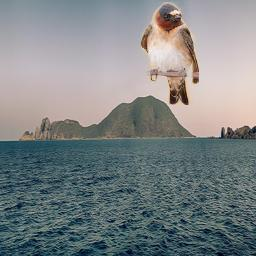Swallow: (141, 2, 199, 105)
